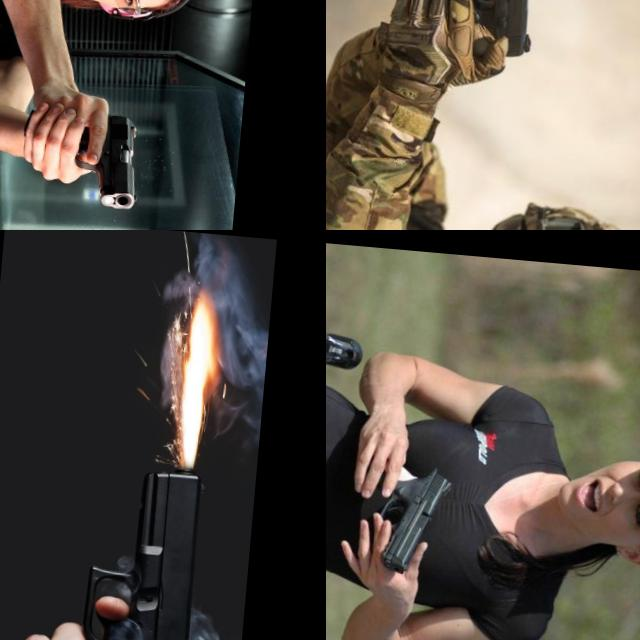handgun: (67, 458, 213, 640), (363, 454, 456, 578), (66, 109, 144, 213), (461, 0, 540, 61)
